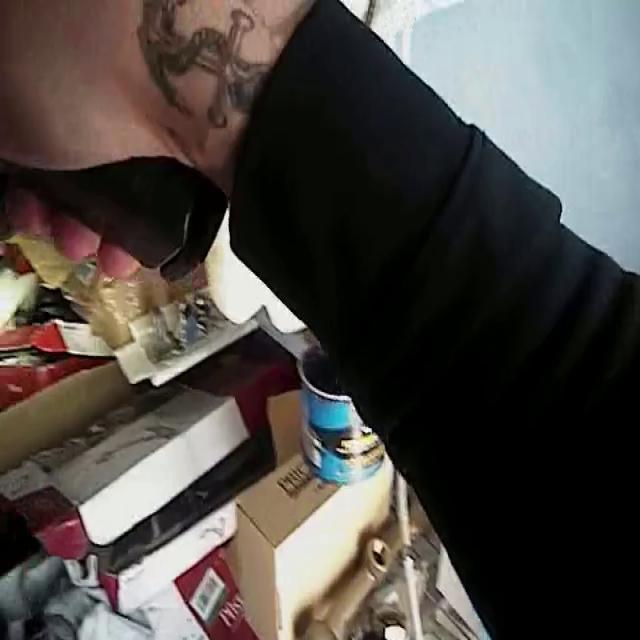gun: (0, 93, 258, 325)
